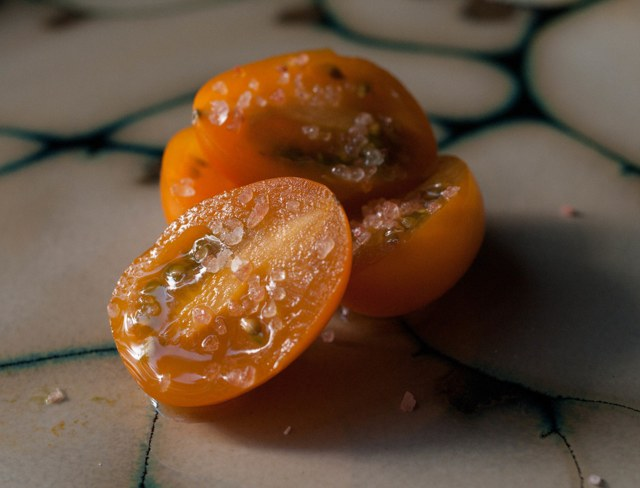tomato: (105, 176, 350, 405), (191, 46, 439, 220), (340, 152, 488, 319), (158, 124, 223, 225)
